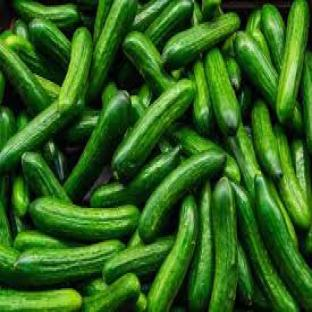Cucumber: (0, 28, 91, 172), (232, 183, 299, 311), (113, 81, 194, 180), (139, 151, 225, 242), (256, 176, 311, 310), (64, 93, 130, 201), (148, 197, 198, 311), (91, 147, 180, 207), (14, 241, 124, 286), (30, 198, 139, 242), (163, 12, 240, 69), (209, 178, 238, 311), (274, 125, 310, 228), (0, 41, 49, 112), (234, 31, 277, 110), (188, 183, 214, 311), (104, 237, 174, 284), (123, 31, 173, 95), (205, 48, 240, 136), (4, 35, 64, 83), (58, 28, 93, 109), (251, 99, 282, 179), (22, 152, 70, 202), (227, 125, 259, 199), (82, 273, 140, 311), (29, 19, 71, 69), (267, 180, 298, 247), (0, 289, 81, 311), (261, 4, 284, 73), (193, 60, 214, 134), (174, 127, 223, 156), (291, 139, 311, 207), (63, 110, 99, 144), (14, 231, 70, 252), (42, 140, 68, 182), (301, 52, 311, 153), (238, 244, 254, 306), (0, 244, 19, 286), (12, 174, 29, 218), (250, 29, 272, 63), (0, 106, 15, 150), (36, 76, 60, 102), (0, 198, 12, 247), (225, 57, 241, 92), (10, 210, 30, 238), (238, 84, 253, 121), (79, 277, 107, 296), (254, 284, 272, 311), (131, 96, 146, 126), (101, 82, 117, 107), (138, 84, 154, 107), (222, 33, 235, 57), (13, 19, 28, 39), (247, 9, 260, 32), (132, 292, 147, 311), (81, 12, 95, 32), (191, 2, 203, 25), (302, 227, 311, 257), (16, 111, 29, 131), (128, 231, 142, 247), (0, 70, 5, 105)
